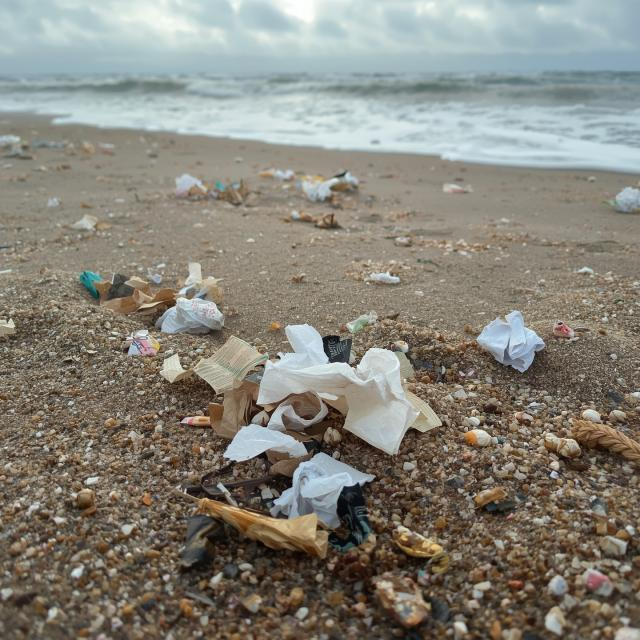paper: (245, 319, 426, 449), (257, 454, 383, 538), (461, 312, 555, 392), (185, 326, 274, 399), (111, 327, 180, 368)
